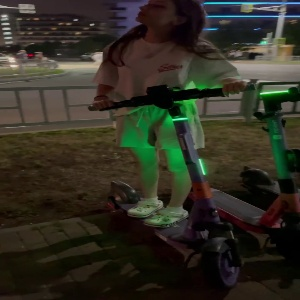human on a scooter: (86, 1, 256, 289)
